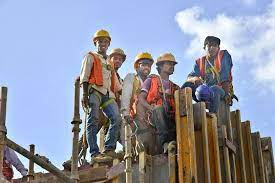arm: (136, 74, 162, 117), (77, 52, 94, 107), (220, 52, 234, 104), (119, 75, 134, 122), (184, 55, 205, 85)
face: (160, 59, 176, 74), (135, 59, 151, 74), (205, 41, 219, 56), (97, 36, 110, 51)
footwear: (87, 148, 117, 166)
glove: (185, 74, 199, 84)
helmet: (155, 50, 178, 69), (90, 27, 112, 46), (133, 49, 154, 65), (108, 45, 124, 57)
human: (76, 25, 125, 164), (140, 49, 179, 158), (183, 34, 234, 112)
leg: (86, 98, 123, 167)
noglove: (223, 91, 234, 105)
nogoggle: (205, 42, 218, 50), (137, 62, 151, 69), (163, 61, 175, 68), (112, 55, 125, 60)
nohelmet: (203, 35, 222, 53)
vest: (81, 49, 115, 94), (144, 72, 175, 118), (197, 51, 231, 84)
